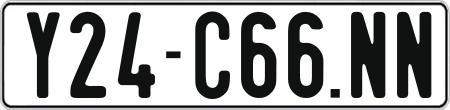2: (70, 12, 108, 103)
4: (118, 11, 155, 98)
6: (285, 10, 325, 98), (240, 10, 275, 99)
C: (195, 9, 233, 101)
N: (350, 11, 389, 98), (394, 10, 430, 96)
Y: (27, 11, 65, 97)
